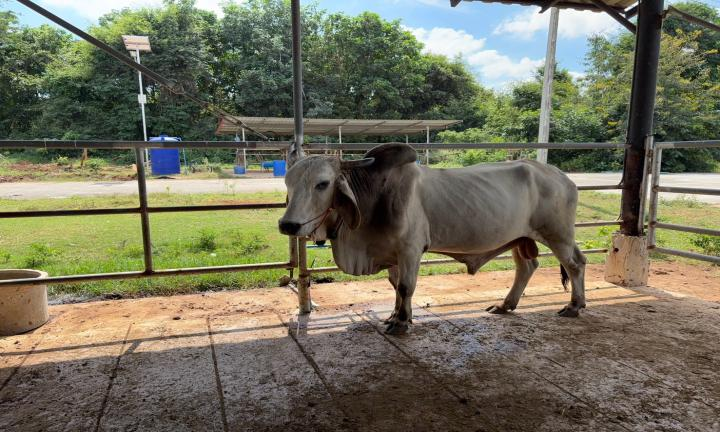Brahman: (278, 143, 586, 334)
